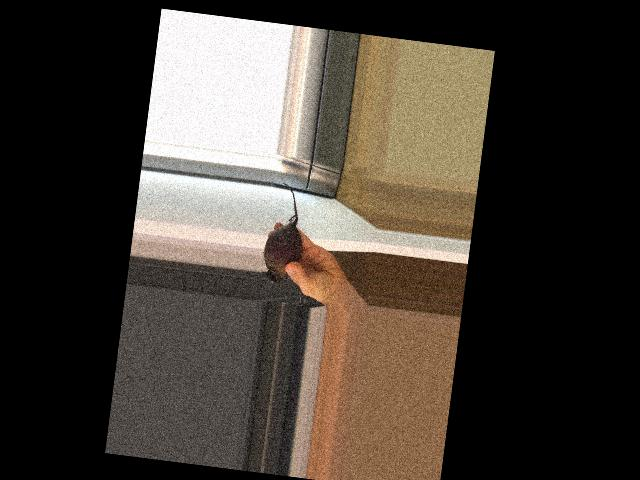beet: (259, 181, 310, 289)
